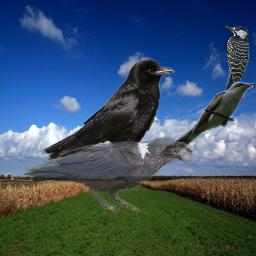Crow: (42, 58, 175, 167), (22, 135, 195, 215)
Cuckoo: (159, 81, 255, 156)
Woodpecker: (223, 24, 251, 104)
